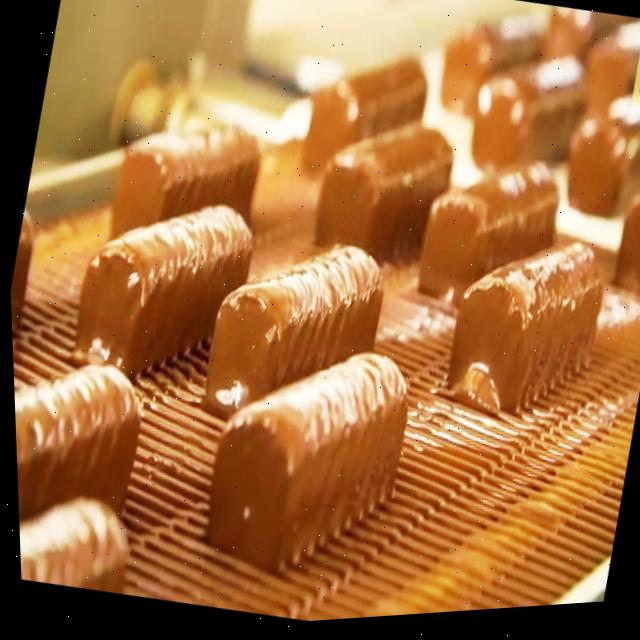Choco: (183, 320, 423, 600), (188, 215, 396, 448), (57, 174, 263, 400), (429, 218, 616, 442), (10, 341, 162, 562), (402, 140, 568, 333), (100, 97, 276, 263), (305, 99, 464, 275), (292, 30, 440, 207), (460, 40, 596, 193), (14, 468, 144, 602), (553, 103, 640, 237), (427, 11, 500, 133), (599, 182, 640, 314)
